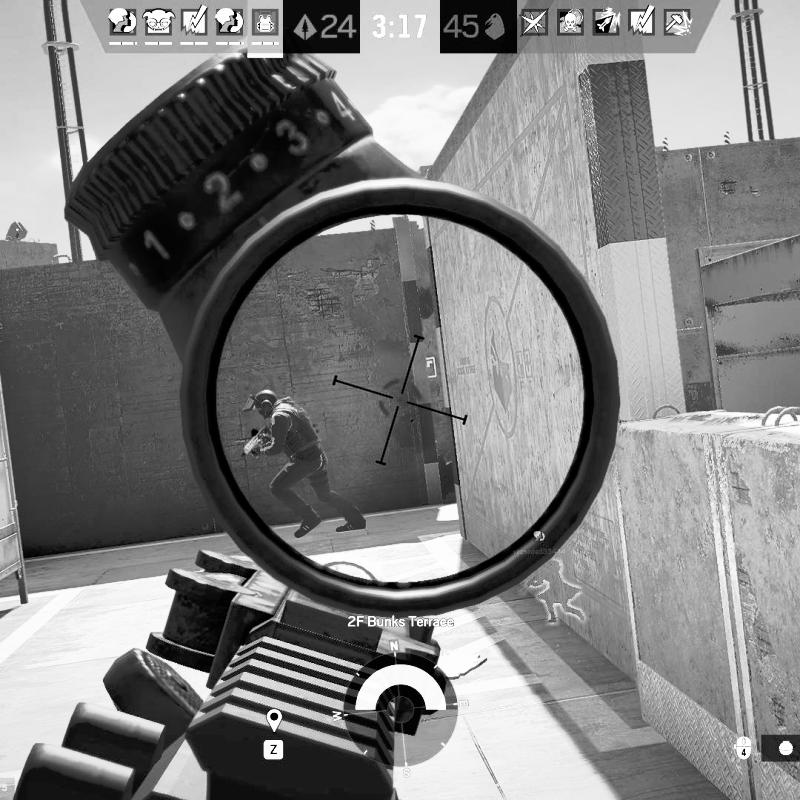Character: (241, 388, 369, 539)
Friend_label: (511, 531, 567, 557)
Head: (251, 388, 279, 419)
